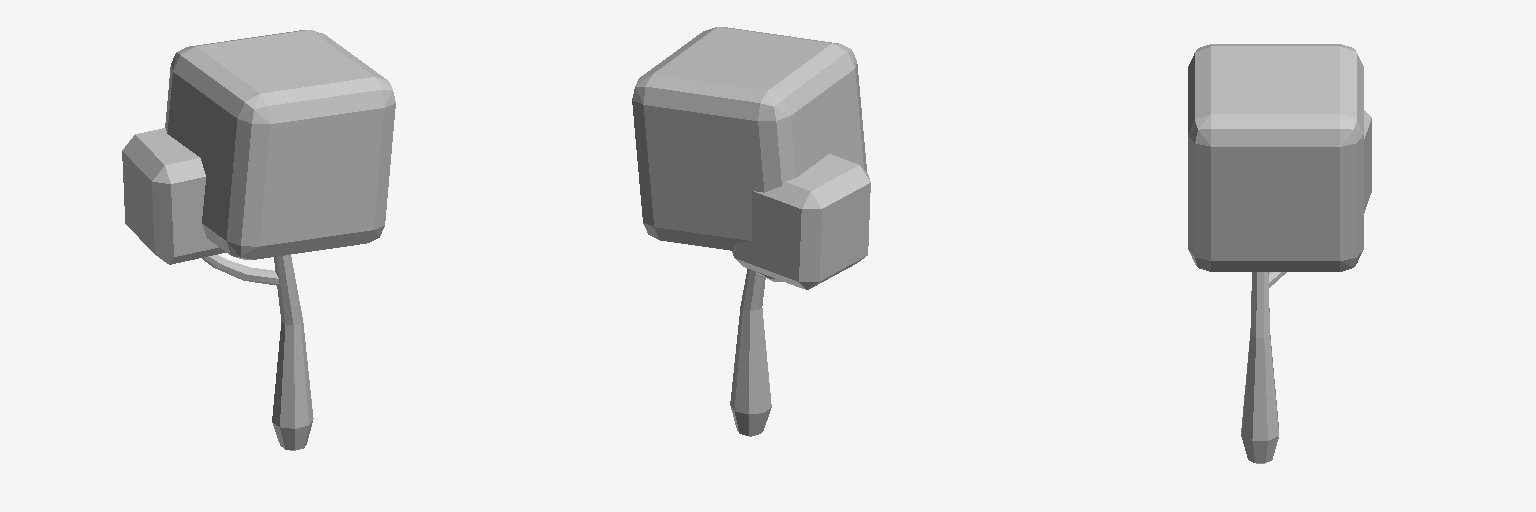
The model's file is Tree_2_A_Color1.obj.
3 views of the same model, side by side, from view 1: azimuth 30°, elevation 25°; view 2: azimuth 150°, elevation 25°; view 3: azimuth 270°, elevation 25° (orthographic).
Parts seen in each view (by area): view 1: Tree_2_A_Color1; view 2: Tree_2_A_Color1; view 3: Tree_2_A_Color1.
Part boxes in pixels (x1,y1,x2,y2): Tree_2_A_Color1: (122,30,395,450); Tree_2_A_Color1: (632,27,870,436); Tree_2_A_Color1: (1188,44,1371,463).
Size of the model in its own units: 2.6 by 4.67 by 2.